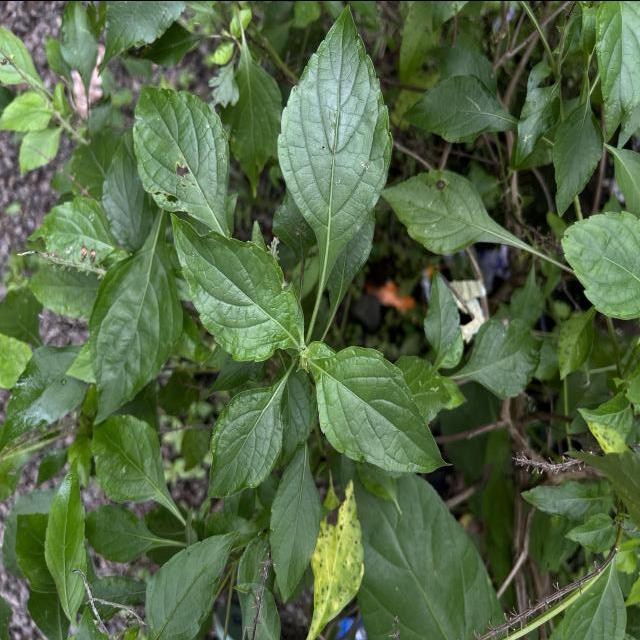Ocimum gratissimum: (274, 0, 396, 297), (86, 207, 187, 427), (167, 209, 310, 362), (306, 342, 456, 477), (377, 162, 542, 260), (131, 80, 233, 233), (140, 525, 244, 640), (203, 378, 290, 504), (266, 438, 324, 608), (559, 204, 640, 324), (398, 70, 522, 144), (40, 449, 90, 626), (594, 1, 640, 147)
